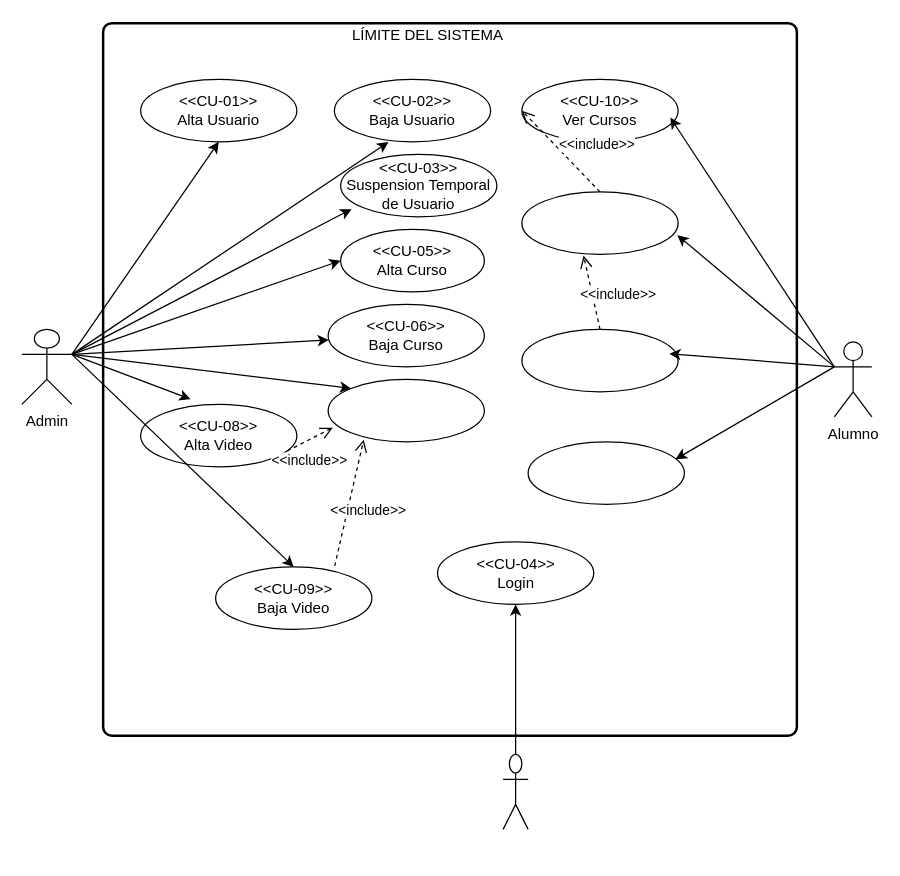
The diagram is 900 pixels wide and 876 high, and some of its shapes have lost their labels. The shapes that lost their labels are listed below. From the top down, each one's centre as x and y in pixels, then its label:
[599,222]: <<CU-11>> Seleccionar Curso
[599,360]: <<CU-12>> Ver Video
[405,410]: <<CU-07>> Modificacion Curso
[605,472]: <<CU-13>> Ver Historial
[515,791]: Usuario no Autenticado
